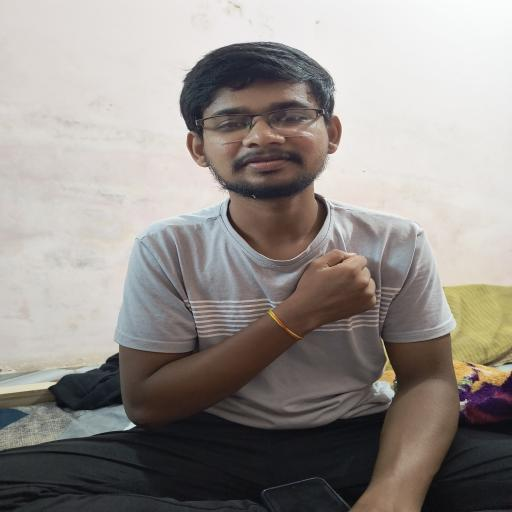Understood: (104, 203, 386, 451)
